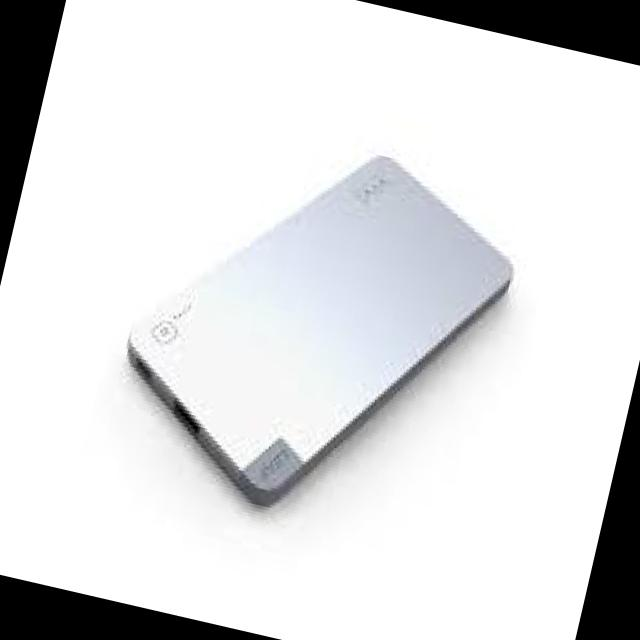portable-charger: (90, 105, 532, 554)
